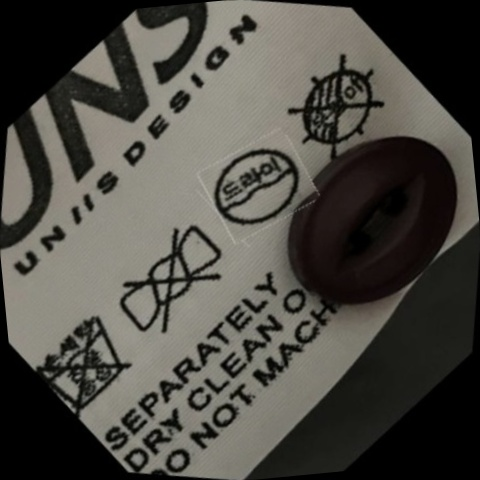DN_dry: (279, 49, 395, 166)
DN_wring: (106, 217, 237, 348)
dry_clean: (205, 133, 311, 241)
hand_wash: (32, 299, 143, 419)
